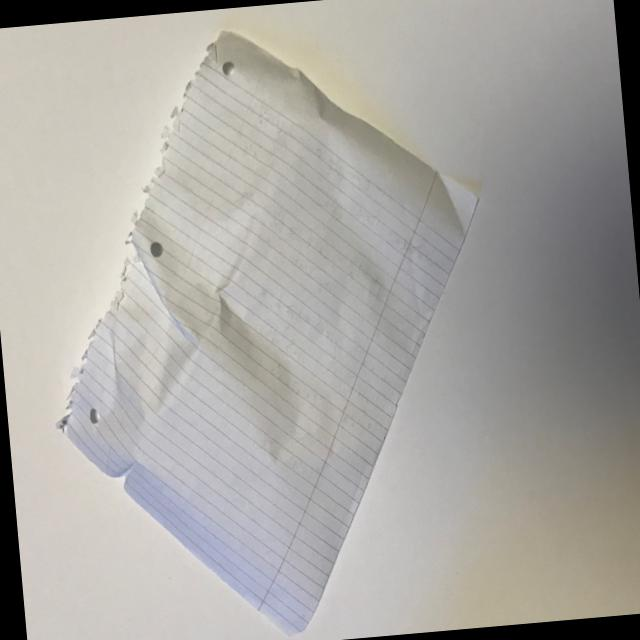Paper: (20, 13, 509, 640)
